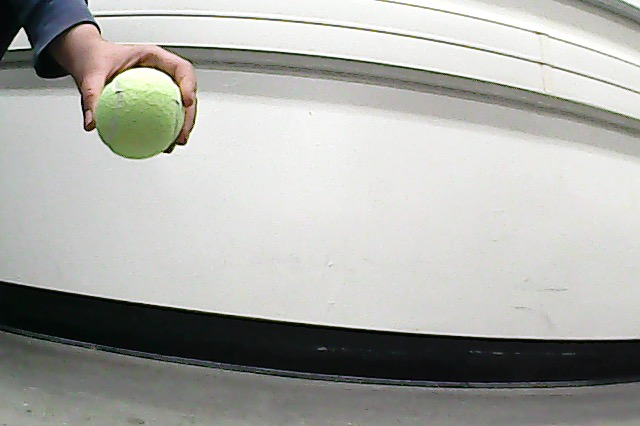ball: (90, 67, 187, 163)
